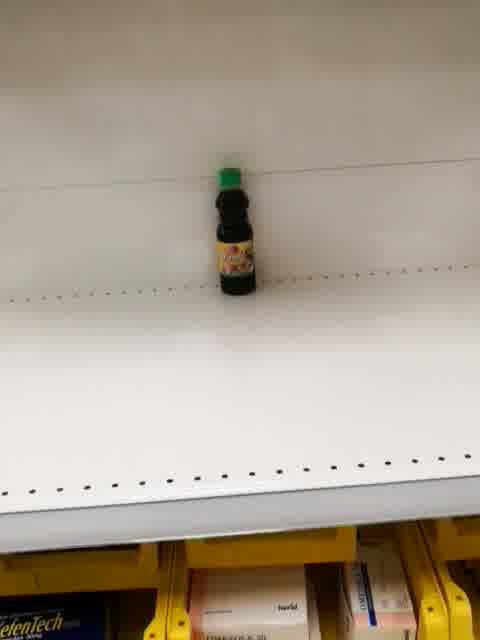cookingoil: (213, 163, 258, 299)
